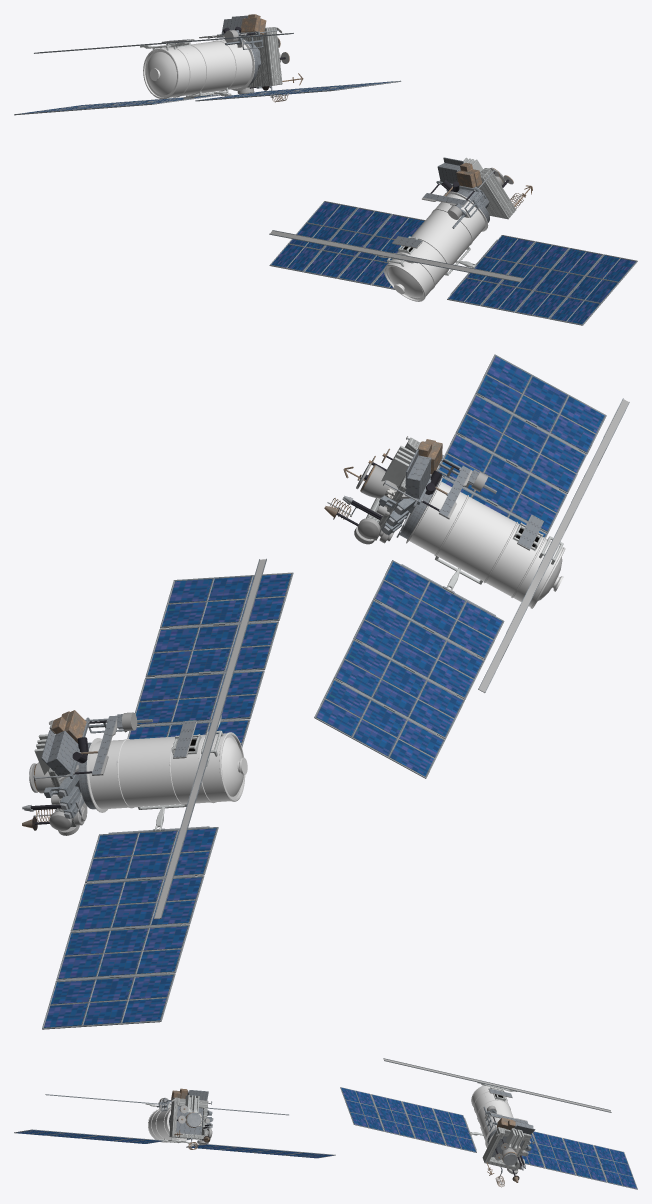
The model's file is satellites.obj.
The picture shows the model from 3 angles, top to bottom: view 1: azimuth 30°, elevation 25°; view 2: azimuth 150°, elevation 25°; view 3: azimuth 270°, elevation 25°; orthographic projection. The views are drawn at different scales.
Parts seen in each view (by area): view 1: Meteor-M2, Meteor-M2.001; view 2: Meteor-M2.001, Meteor-M2; view 3: Meteor-M2.001, Meteor-M2.
Boxes of the visible parts, x1,y1,x2,y2 form: Meteor-M2: [269, 157, 637, 325]; Meteor-M2.001: [14, 14, 401, 115]; Meteor-M2.001: [22, 558, 293, 1029]; Meteor-M2: [314, 354, 629, 778]; Meteor-M2.001: [340, 1058, 637, 1189]; Meteor-M2: [14, 1088, 335, 1158].
Size of the model in its own units: 18.03 by 18.2 by 74.1.
